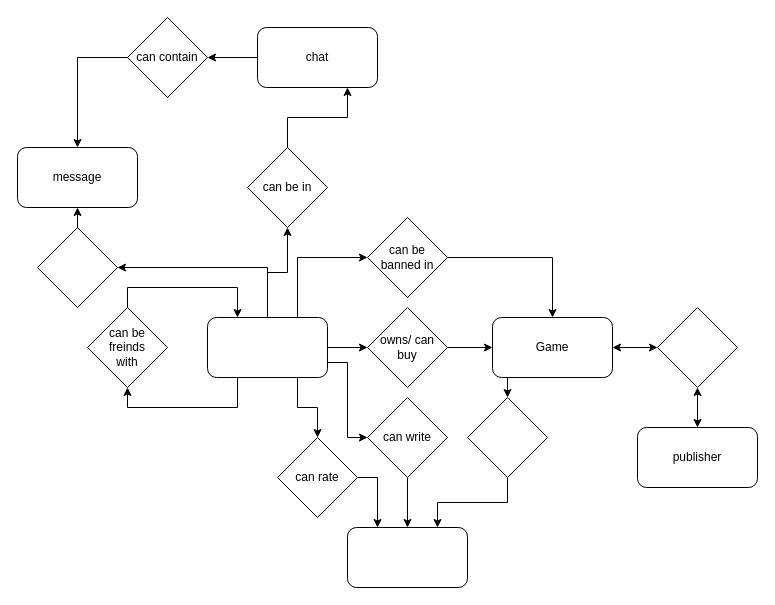
This 775x605 diagram has some shape labels left out. Each missing label, with the centre of its shape:
"Account" belongs at point (267, 347).
"can have" belongs at point (507, 437).
"can send" belongs at point (77, 267).
"has" belongs at point (697, 347).
"Review" belongs at point (407, 557).
